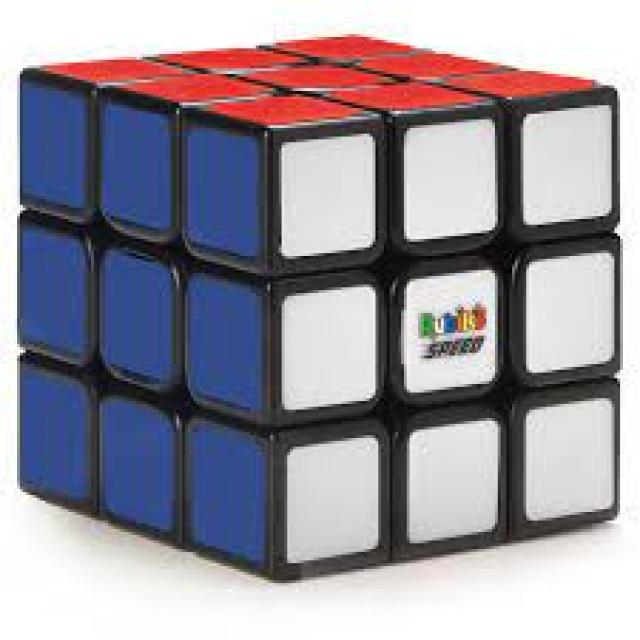Rub: (10, 35, 627, 583)
